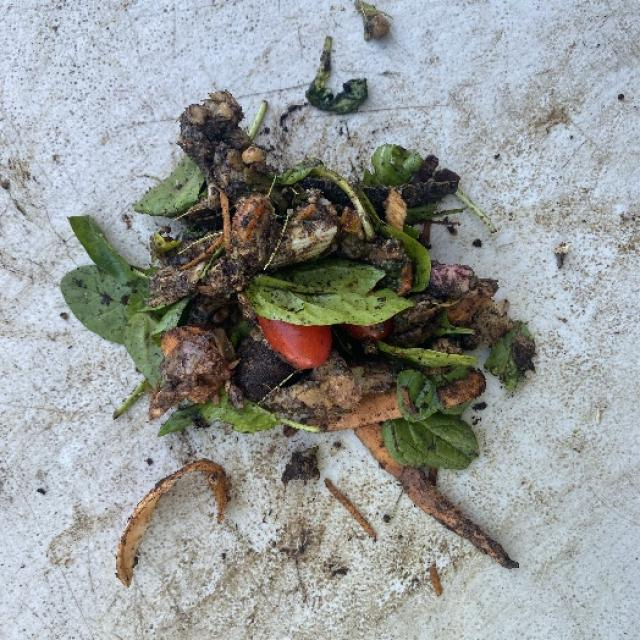organik: (72, 75, 558, 512), (258, 281, 330, 368)
